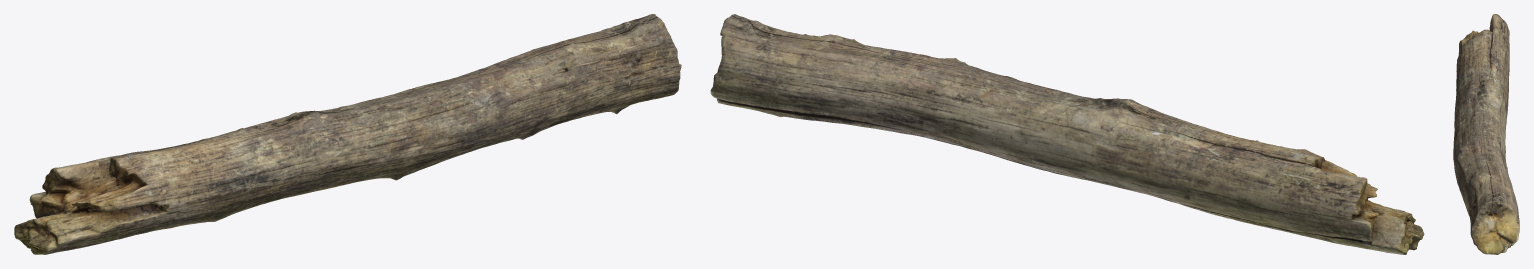
File: Log.fbx
3 renders of one model, left to right at view 1: azimuth 30°, elevation 25°; view 2: azimuth 150°, elevation 25°; view 3: azimuth 270°, elevation 25°, orthographic. The views are drawn at different scales.
Parts seen in each view (by area): view 1: Log; view 2: Log; view 3: Log.
Part boxes in pixels (x1,y1,x2,y2): Log: (14, 14, 681, 254); Log: (710, 14, 1424, 254); Log: (1453, 14, 1519, 254).
Size of the model in its own units: 568 by 69.36 by 76.75.
